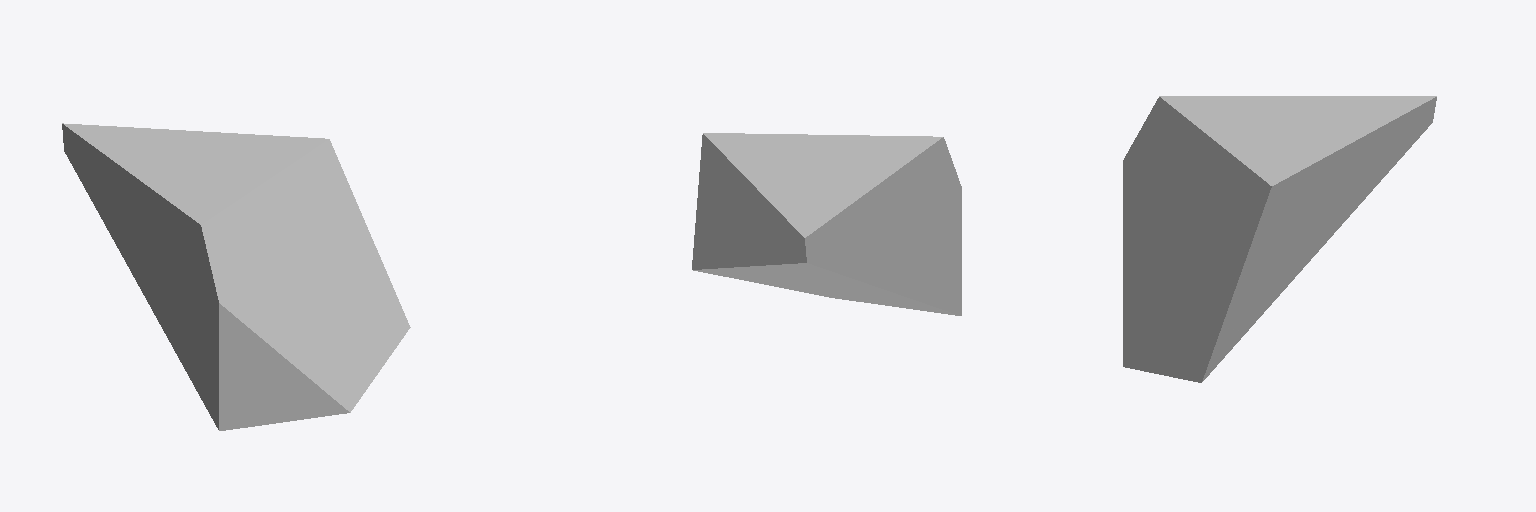
File: CubeShatter02.obj
3 views of the same model, side by side, from view 1: azimuth 30°, elevation 25°; view 2: azimuth 150°, elevation 25°; view 3: azimuth 270°, elevation 25° (orthographic).
Parts seen in each view (by area): view 1: CubeShatter02; view 2: CubeShatter02; view 3: CubeShatter02.
Part boxes in pixels (x1,y1,x2,y2): CubeShatter02: (62, 123, 410, 430); CubeShatter02: (692, 133, 961, 315); CubeShatter02: (1123, 96, 1436, 382).
Bounding box in the file's own units: 1.5 × 1.28 × 1.77.